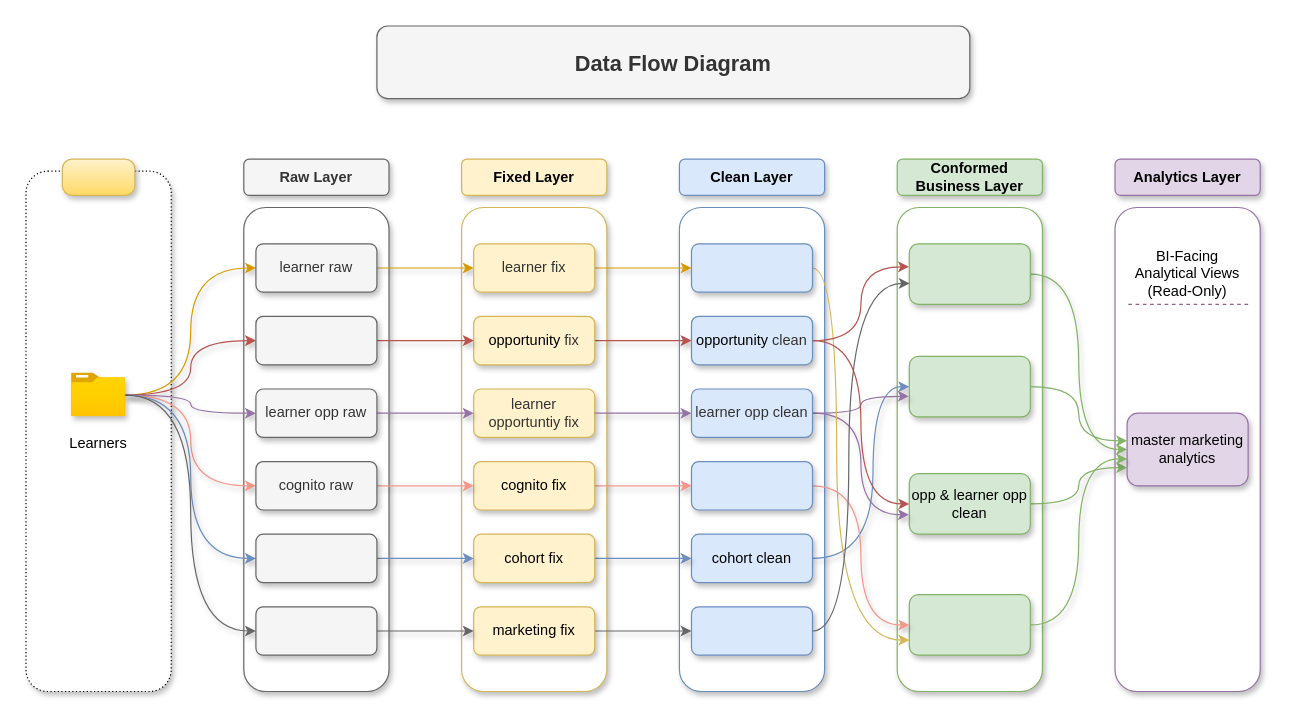
This 1289x721 diagram has some shape labels left out. Each missing label, with the centre of its shape:
cognito clean: point (752, 487)
coh & learner opp clean: point (970, 387)
cohort raw: point (317, 559)
learner clean: point (752, 269)
learner cog clean: point (970, 626)
marketing clean: point (752, 632)
marketing opp clean: point (970, 275)
marketing raw: point (317, 632)
opportunity raw: point (317, 341)
Source: point (99, 178)
